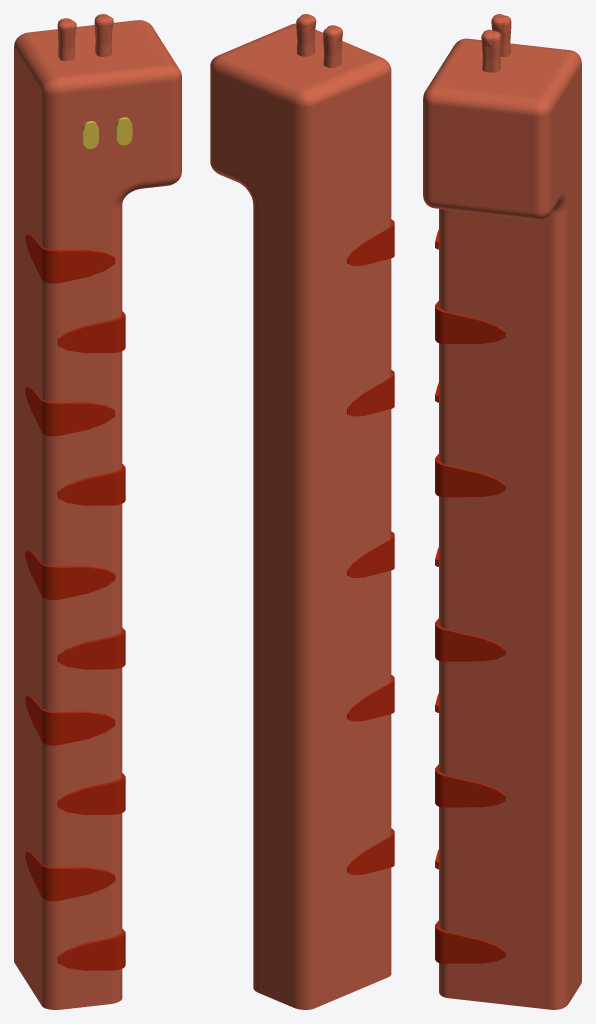
File: 长颈鹿0810.dae
The picture shows the model from 3 angles, left to right: view 1: azimuth 30°, elevation 25°; view 2: azimuth 150°, elevation 25°; view 3: azimuth 270°, elevation 25°; orthographic projection.
Visible parts, largest first — view 1: _______; view 2: _______; view 3: _______.
Part boxes in pixels (x1,y1,x2,y2): _______: (14, 14, 181, 1009); _______: (210, 14, 394, 1009); _______: (423, 14, 581, 1009).
Size of the model in its own units: 1.61 by 10.08 by 1.5.
